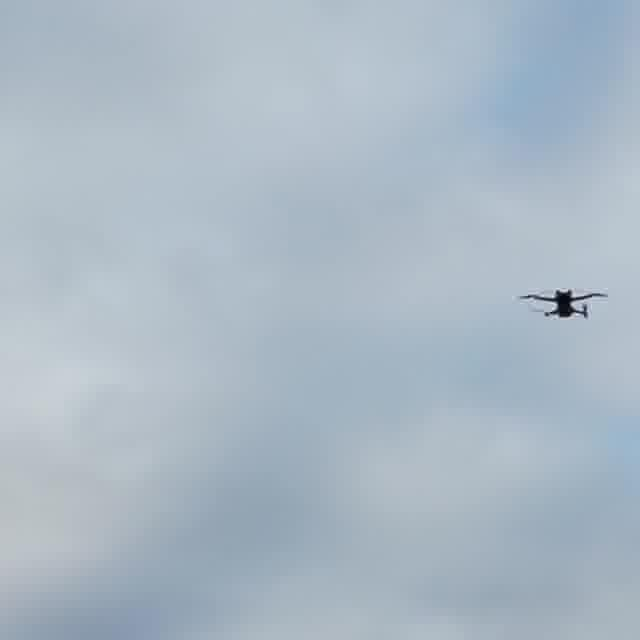Drohne: (519, 289, 607, 318)
